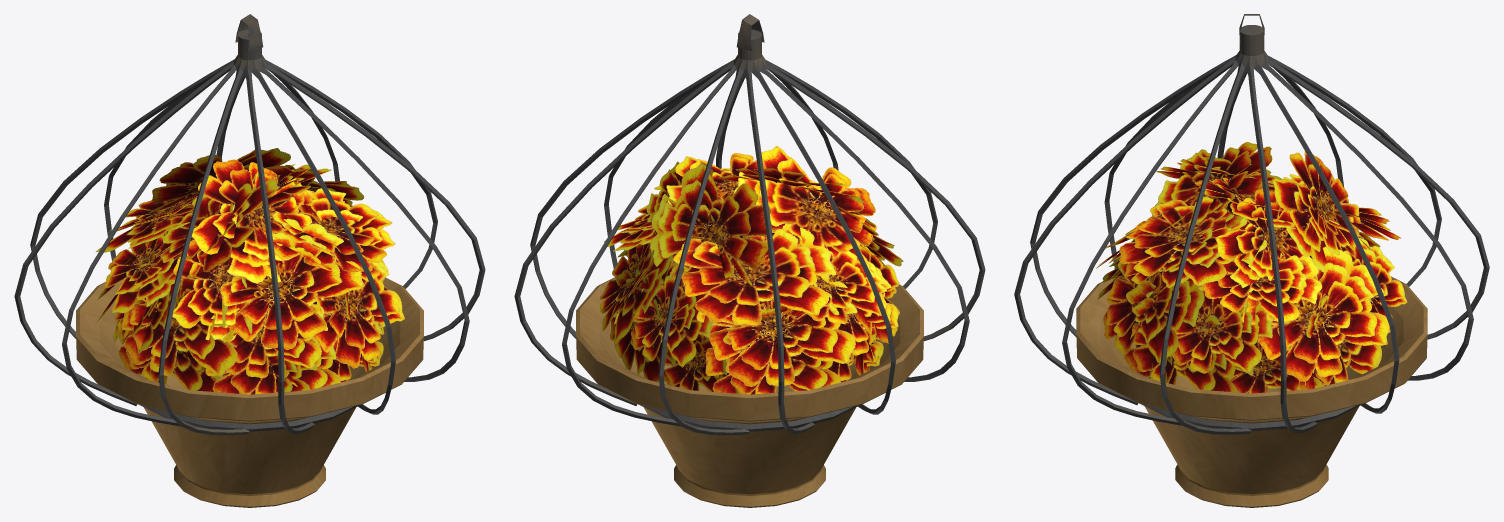
Rendered from Hanging_Basket.FBX.
3 renders of one model, left to right at view 1: azimuth 30°, elevation 25°; view 2: azimuth 150°, elevation 25°; view 3: azimuth 270°, elevation 25°, orthographic.
Visible parts, largest first — view 1: Object062; view 2: Object062; view 3: Object062.
Part boxes in pixels (x1=…): Object062: x1=14, y1=14, x2=485, y2=507; Object062: x1=514, y1=14, x2=985, y2=507; Object062: x1=1014, y1=14, x2=1489, y2=507.
Size of the model in its own units: 63.07 by 67.66 by 63.07.
